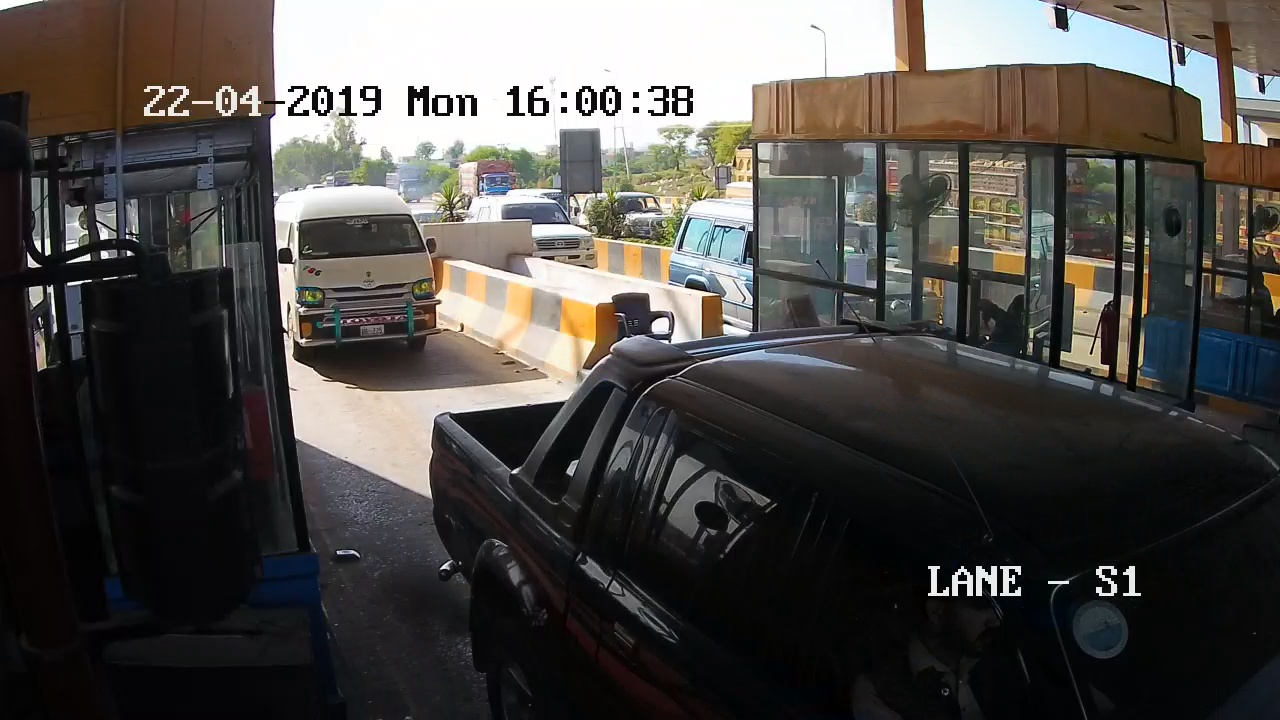car: (519, 352, 1215, 720), (277, 191, 475, 407)
